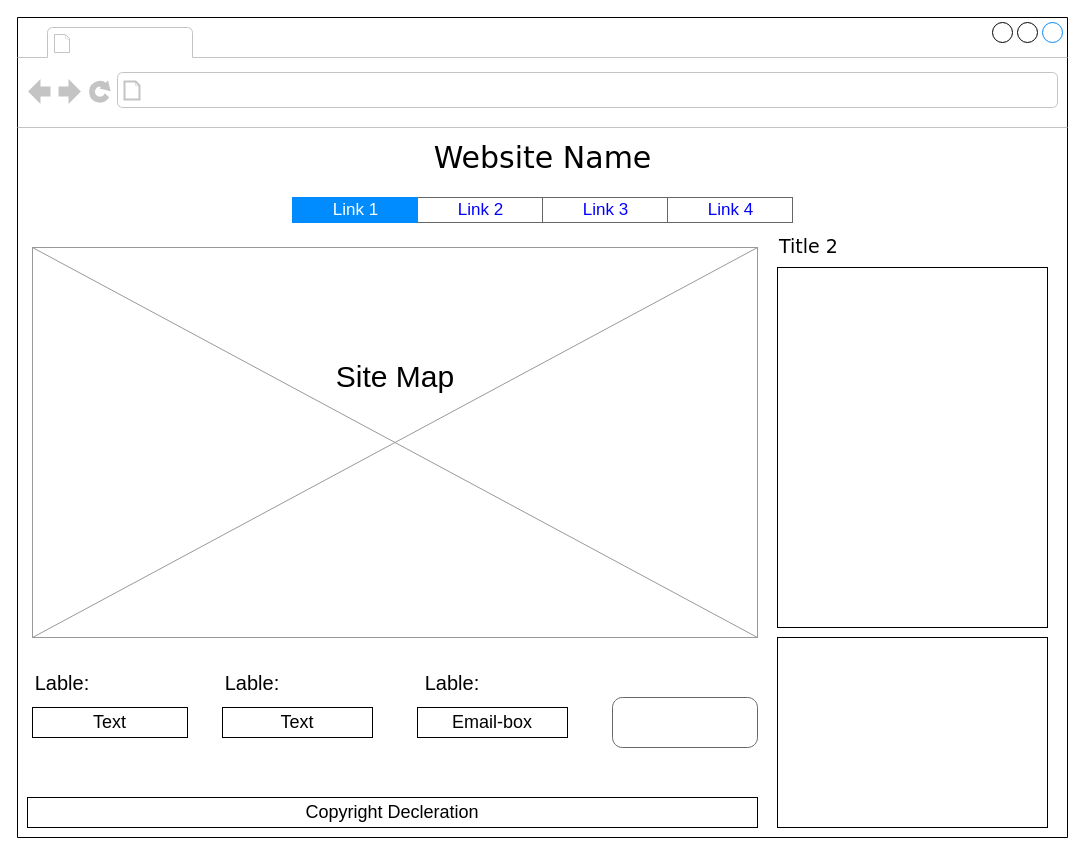
Image size: 1085x855. Some labels were removed from this diagram. The centre of each missing label's shape, as x and y in pixels:
"Button 1" goes at point 685,722.
"Calculation/ Cart-info" goes at point 912,732.
"https://www.default.com" goes at point 272,90.
"Page 1" goes at point 132,42.
"Text description" goes at point 912,447.
